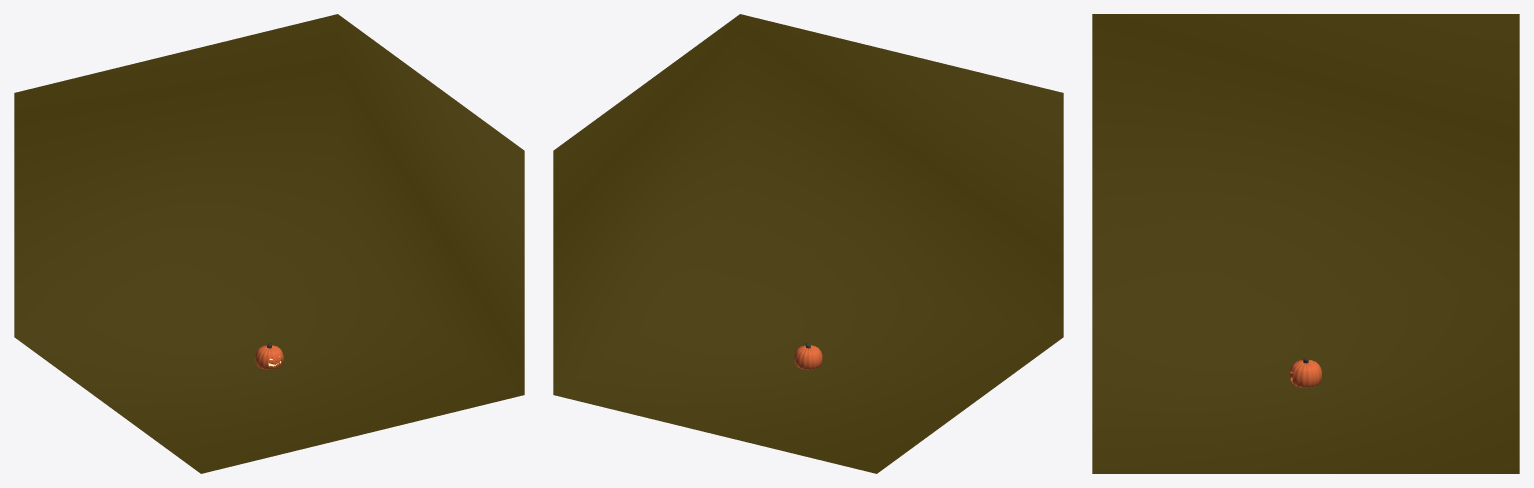
3 views of the same model, side by side, from view 1: azimuth 30°, elevation 25°; view 2: azimuth 150°, elevation 25°; view 3: azimuth 270°, elevation 25° (orthographic). The views are drawn at different scales.
Parts seen in each view (by area): view 1: Background, Jack-o'-lantern; view 2: Background, Jack-o'-lantern; view 3: Background, Jack-o'-lantern.
Boxes of the visible parts, x1,y1,x2,y2 form: Background: (14,14,524,473); Jack-o'-lantern: (255,343,283,369); Background: (553,14,1063,473); Jack-o'-lantern: (794,343,822,369); Background: (1092,14,1519,473); Jack-o'-lantern: (1290,358,1321,388).
Size of the model in its own units: 56.67 by 41.05 by 56.67.
